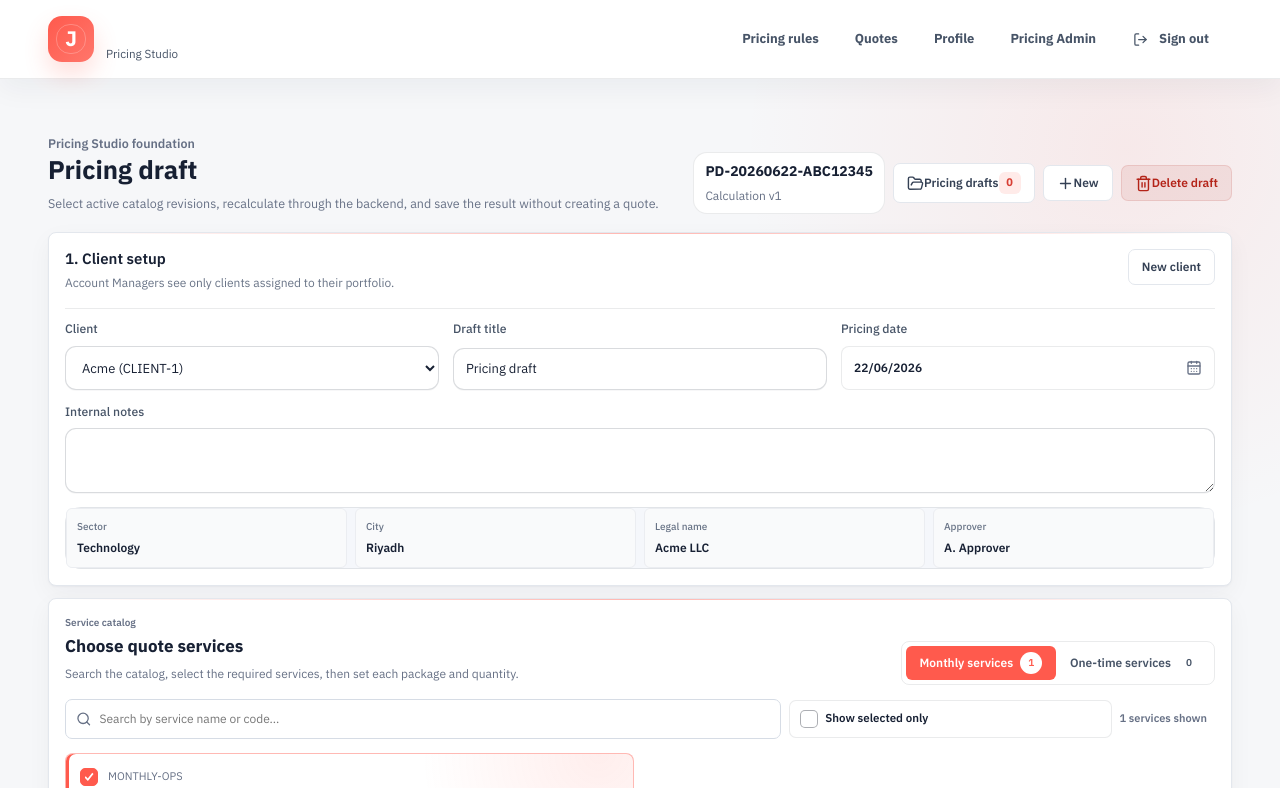
Test: PR 6 pricing UI › prevents issuing a stale quote until current draft changes are saved
This screenshot has width=1280, height=788.
Replace the text in the field labelled "Draft title" with "Updated commercial scope" at {"x": 640, "y": 369}, box [453, 348, 827, 390]
(page scrolled)
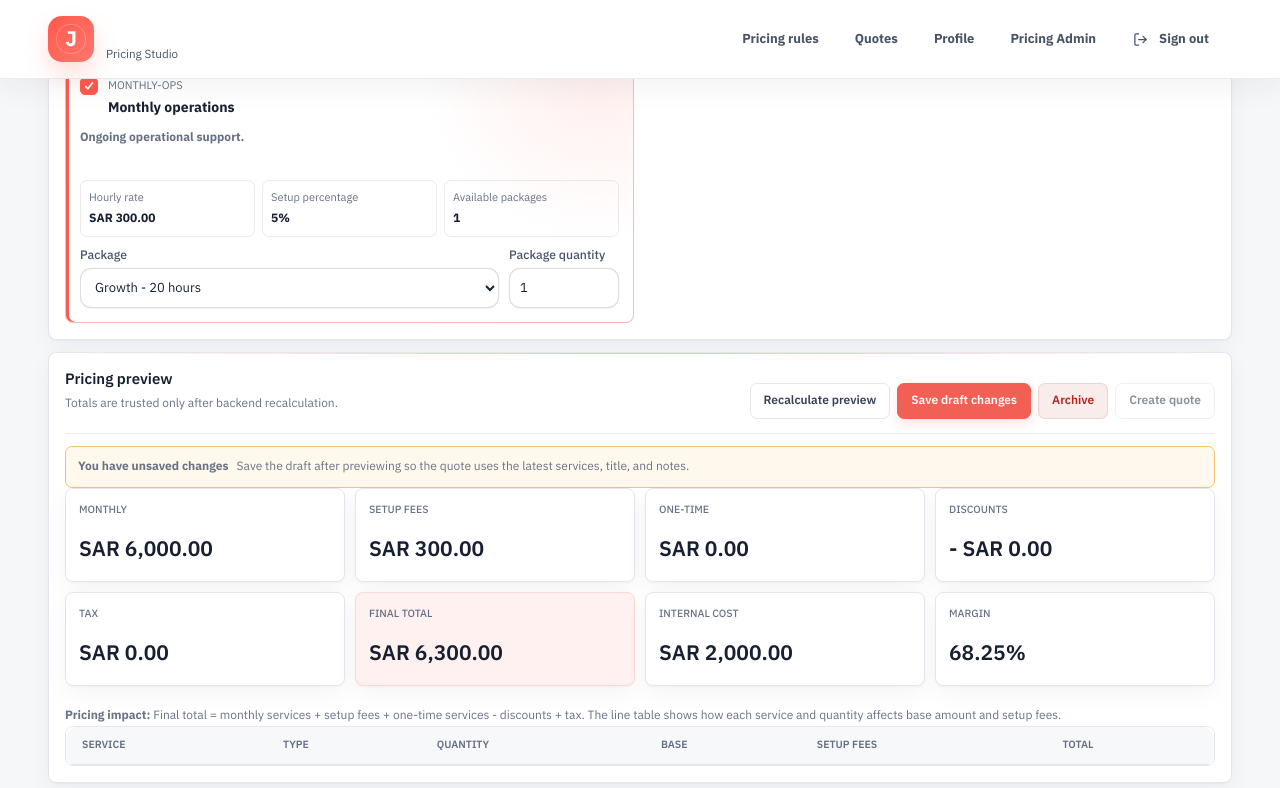
Check: the text "You have unsaved changes" is shown, box [78, 457, 229, 477]
Check: the button "Create quote" is disabled, box [1115, 383, 1215, 419]
